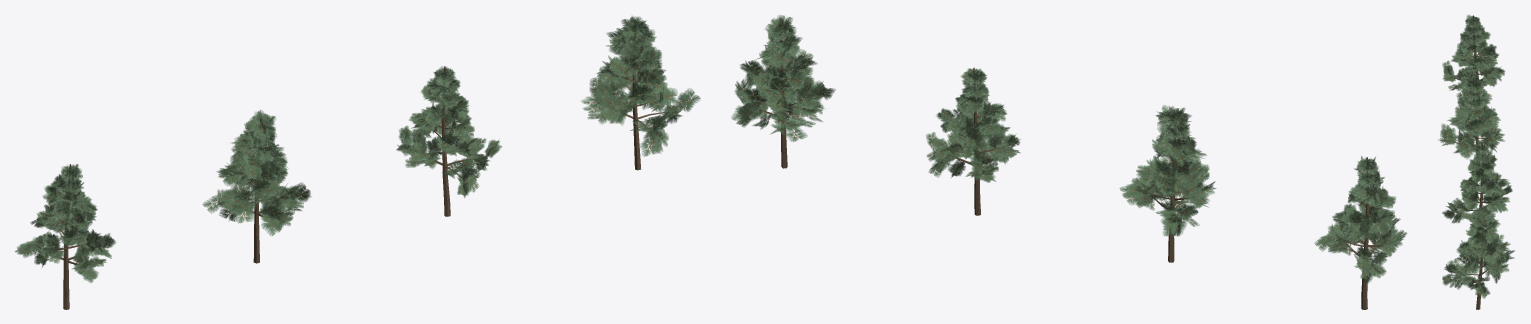
The model's file is tree_pine.glb.
3 renders of one model, left to right at view 1: azimuth 30°, elevation 25°; view 2: azimuth 150°, elevation 25°; view 3: azimuth 270°, elevation 25°, orthographic. The views are drawn at different scales.
Parts seen in each view (by area): view 1: v1_lo_leaf, v0_lo_leaf, v1_hi_leaf, v0_hi_leaf, v1_hi_bark, v1_lo_bark, v0_hi_bark; view 2: v1_lo_leaf, v0_lo_leaf, v1_hi_leaf, v0_hi_leaf, v0_hi_bark, v1_hi_bark; view 3: v1_lo_leaf, v0_lo_leaf, v1_hi_leaf, v0_hi_leaf, v1_lo_bark, v1_hi_bark, v0_hi_bark.
Boxes of the visible parts, x1,y1,x2,y2 form: v1_lo_leaf: [581, 16, 700, 156]; v0_lo_leaf: [202, 110, 311, 236]; v1_hi_leaf: [396, 66, 501, 197]; v0_hi_leaf: [15, 164, 116, 282]; v1_hi_bark: [412, 66, 488, 216]; v1_lo_bark: [596, 20, 673, 170]; v0_hi_bark: [39, 164, 95, 309]; v1_lo_leaf: [731, 15, 835, 141]; v0_lo_leaf: [1119, 105, 1216, 236]; v1_hi_leaf: [926, 68, 1020, 182]; v0_hi_leaf: [1314, 156, 1406, 283]; v0_hi_bark: [1341, 157, 1384, 309]; v1_hi_bark: [942, 67, 1011, 215]; v1_lo_leaf: [1442, 204, 1514, 298]; v0_lo_leaf: [1438, 75, 1504, 159]; v1_hi_leaf: [1442, 144, 1512, 223]; v0_hi_leaf: [1442, 14, 1505, 92]; v1_lo_bark: [1452, 208, 1497, 309]; v1_hi_bark: [1452, 143, 1503, 232]; v0_hi_bark: [1454, 15, 1491, 95].
Size of the model in its own units: 69.6 by 15.41 by 10.64.
Materials: 2 (2 with a texture image).
